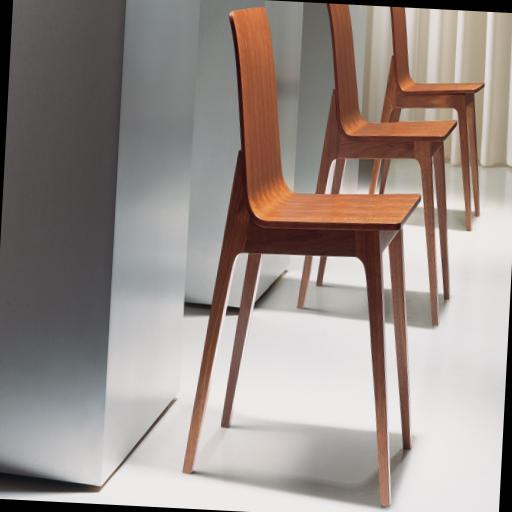chair: (181, 4, 433, 507), (296, 3, 466, 326), (367, 6, 490, 232)
